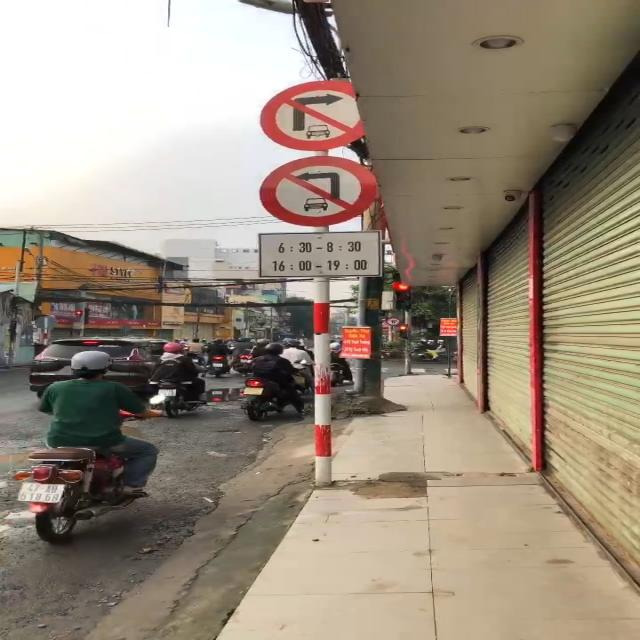Bien bao cam xe o to re phai: (254, 78, 376, 150)
Bien bao cam xe o to re trai: (253, 154, 388, 228)
